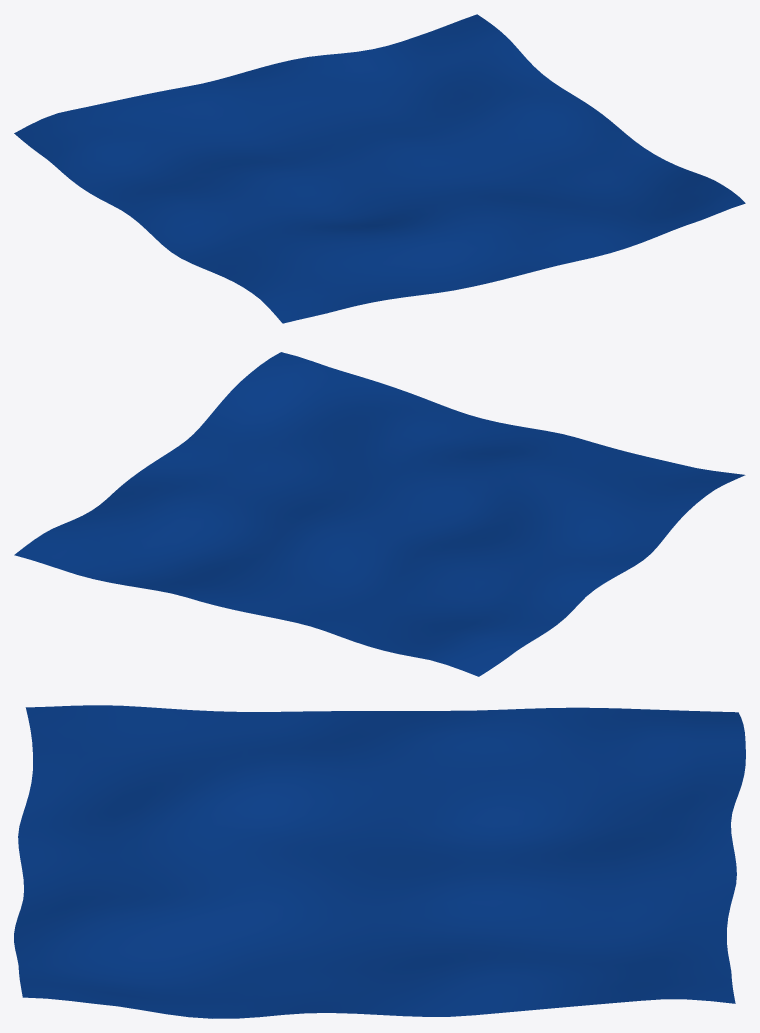
File: wave_6.obj
3 renders of one model, top to bottom at view 1: azimuth 30°, elevation 25°; view 2: azimuth 150°, elevation 25°; view 3: azimuth 270°, elevation 25°, orthographic. The views are drawn at different scales.
Parts seen in each view (by area): view 1: Plane001; view 2: Plane001; view 3: Plane001.
Part boxes in pixels (x1,y1,x2,y2): Plane001: [14, 14, 745, 323]; Plane001: [14, 352, 745, 676]; Plane001: [14, 705, 745, 1018].
Bounding box in the file's own units: 404 × 17.97 × 404.
